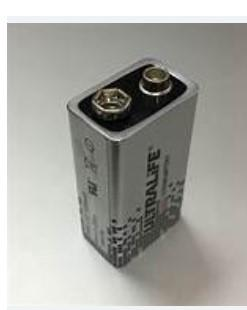9V Battery: (65, 59, 200, 270)
